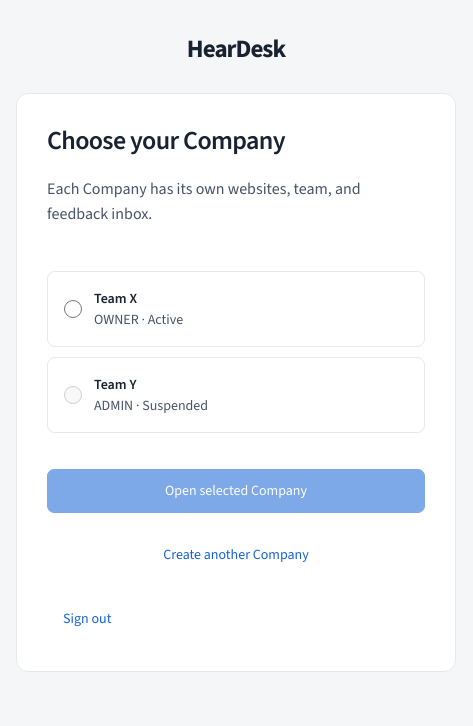
Test: allows active Company selection, denies suspended selection and preserves failure recovery
Expected: the radio button labelled "Team Y ADMIN · Suspended" is disabled, [64,386,82,404]
Click the radio button labelled "Team X OWNER · Active": (73, 309) [64,300,82,318]
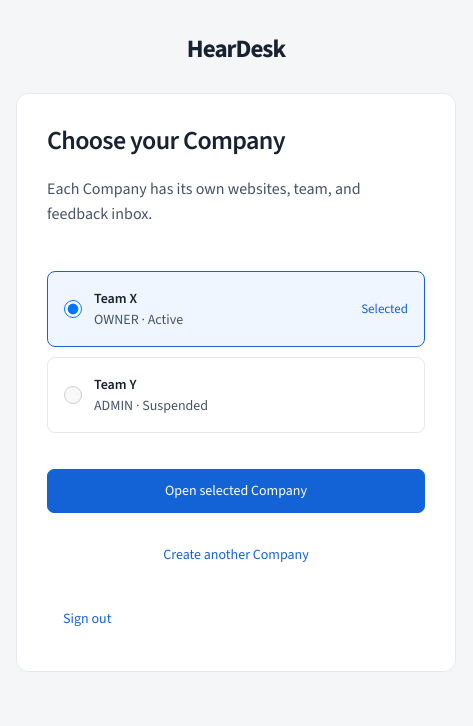
Click the button "Open selected Company": (236, 491) [47,469,425,513]
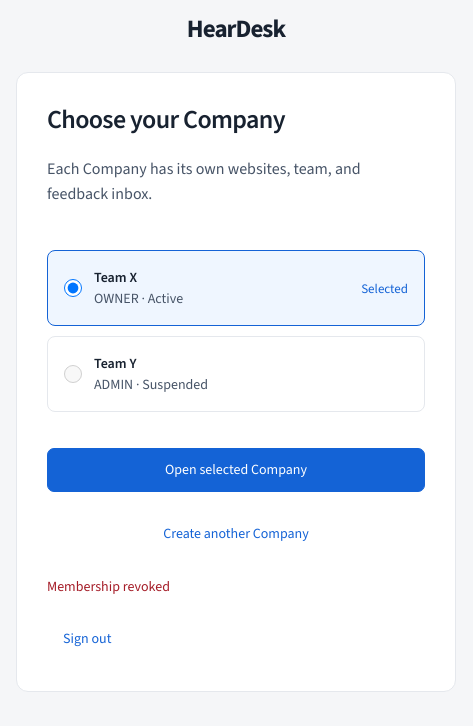
Now the message reads "Membership revoked", box [47,577,170,596]
Click the button "Create another Company": (236, 534) [47,512,425,556]
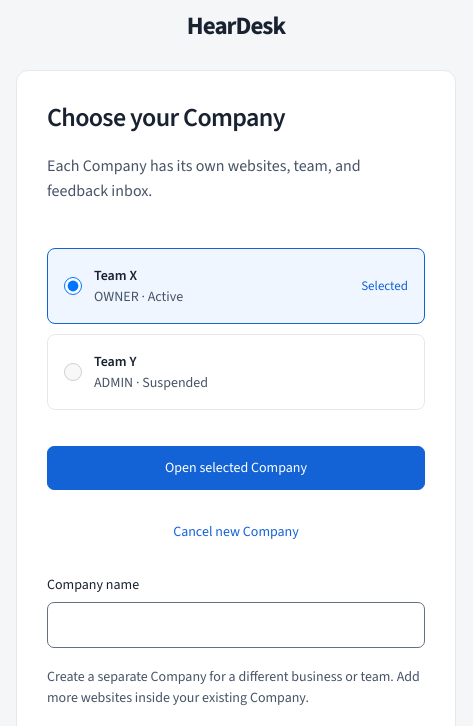
Now the field labelled "Company name" is shown, box [47,602,425,648]
Click the button "Cancel new Company": (236, 532) [47,510,425,554]
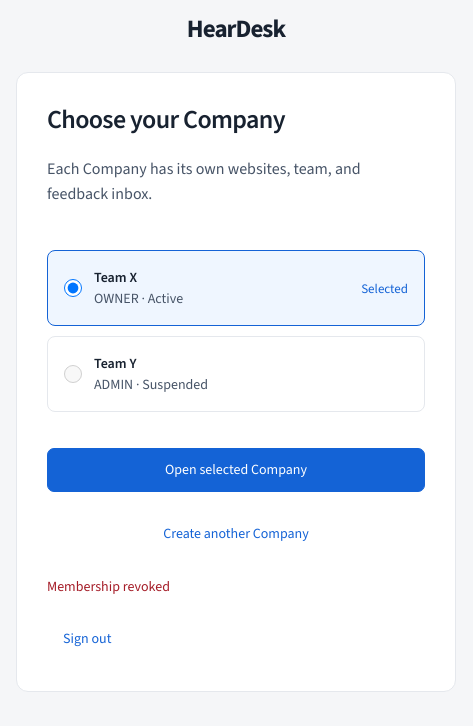
Now the text labelled "Company name" is gone
